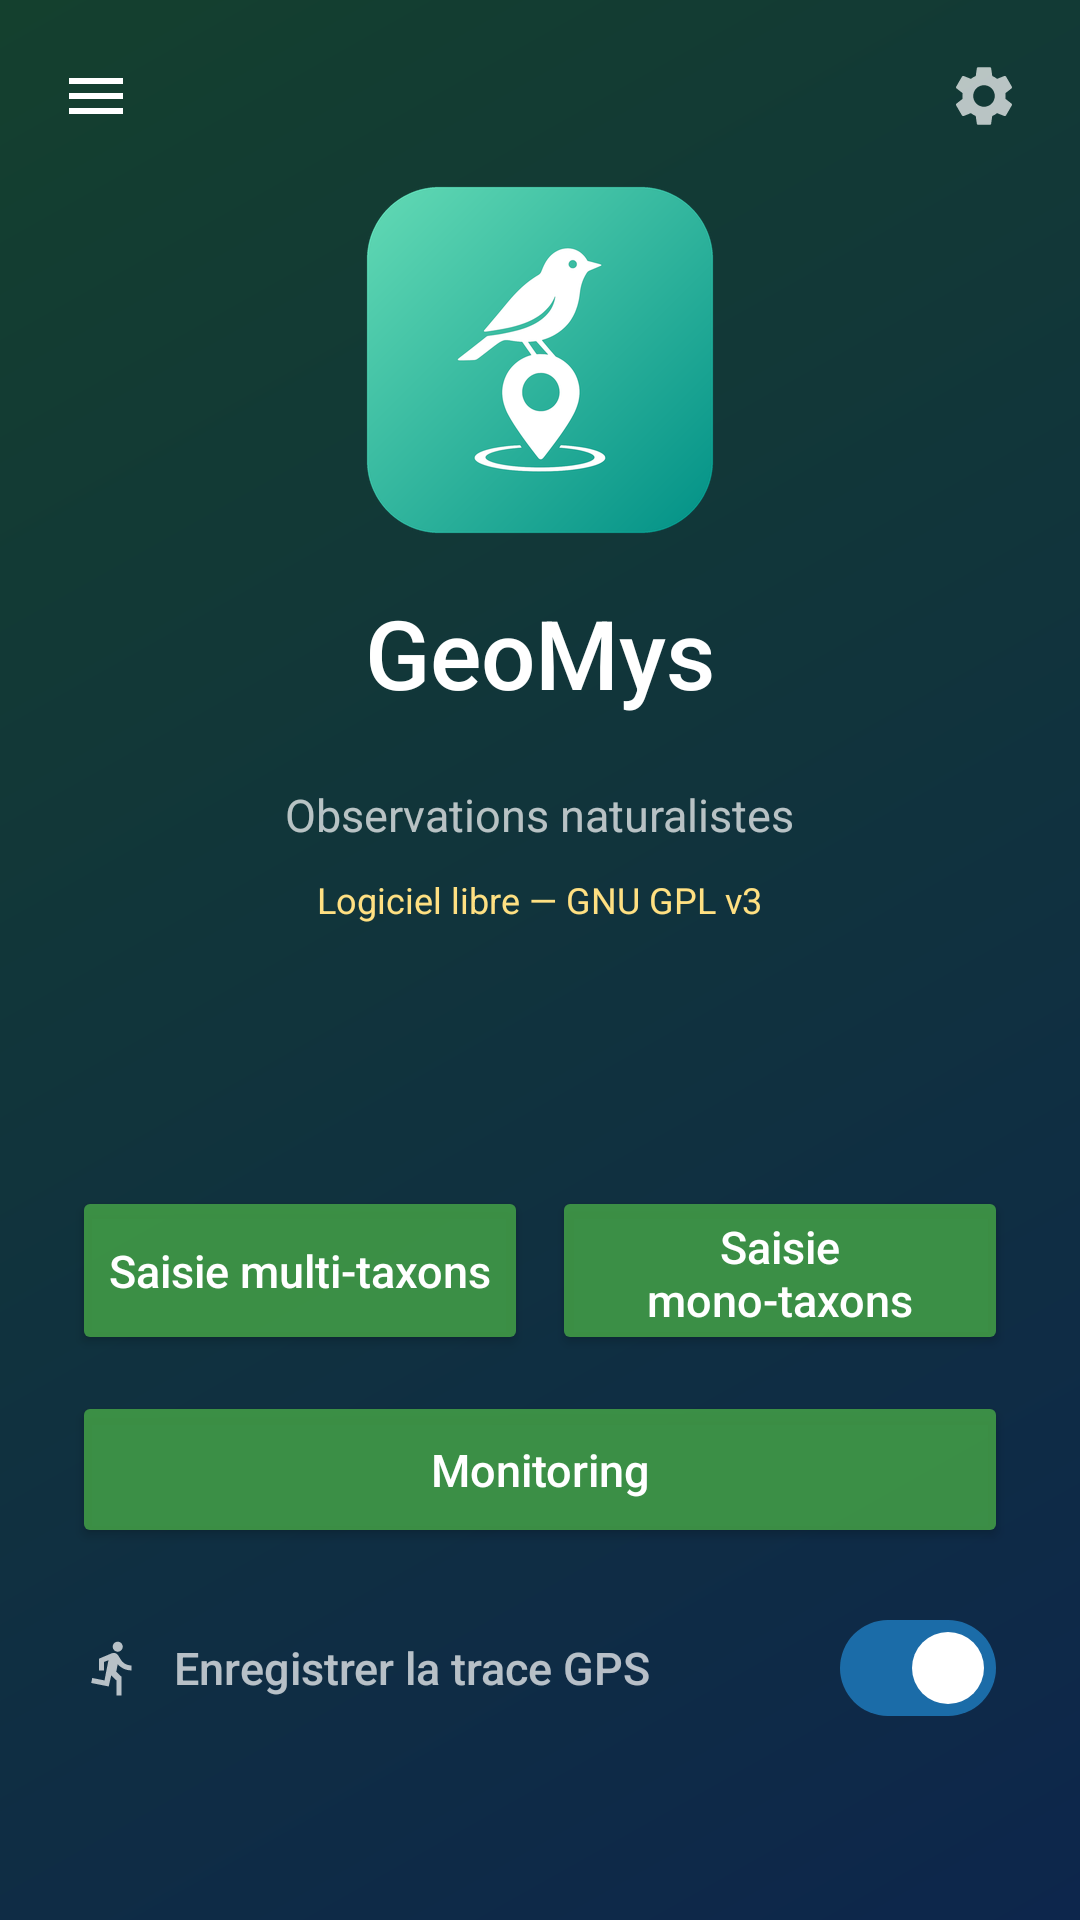

Named icons in this screenshot (1080px×1920px) and their centers, (x,y):
Configuration: (984,96)
Menu: (96,96)
walk: (111,1668)
